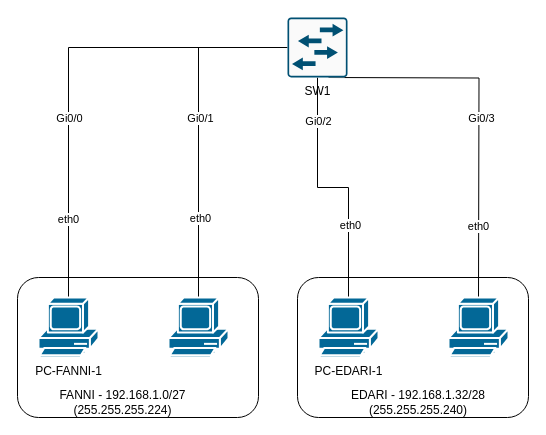
Image size: 546x435. Some labels were removed from this diagram. The box of each missing label's shape, as (x1, y1, x2, y2) in pixels:
PC-EDARI-2: (447, 296, 509, 358)
PC-FANNI-2: (167, 296, 229, 358)
